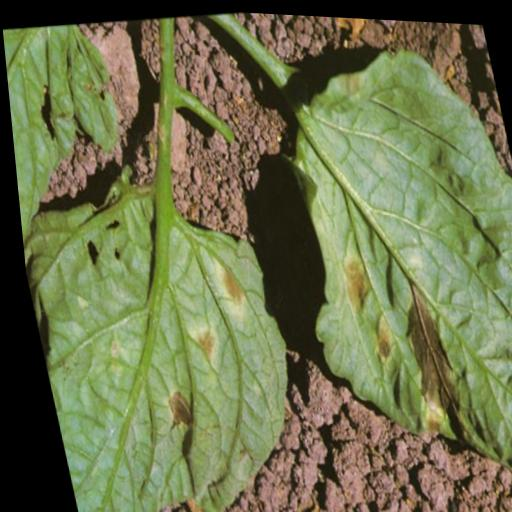Leaf Mold: (252, 31, 512, 500), (13, 172, 311, 512)
